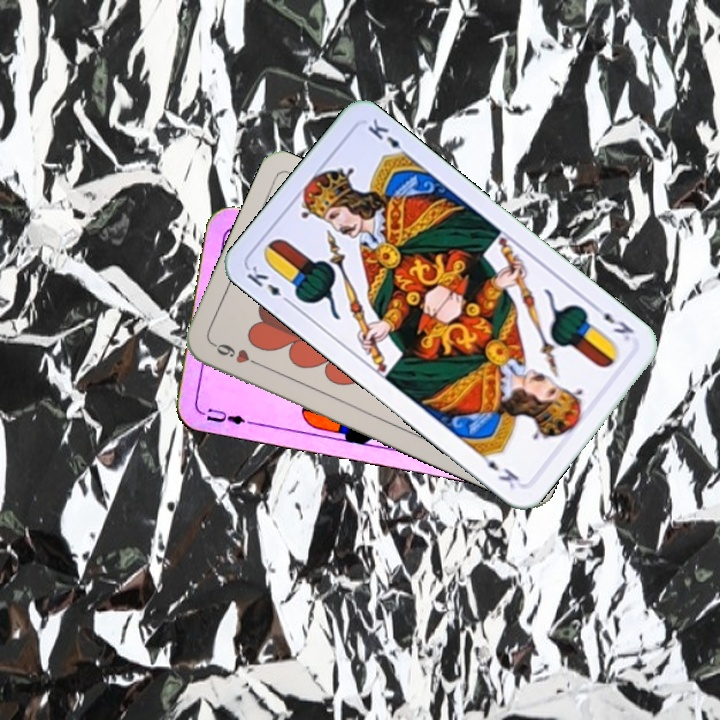EK: (242, 261, 295, 308), (588, 300, 637, 343)
EU: (195, 404, 254, 427)
H9: (208, 338, 264, 369)
